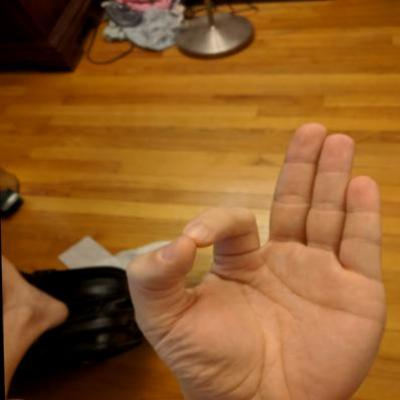hand: (115, 117, 394, 399)
